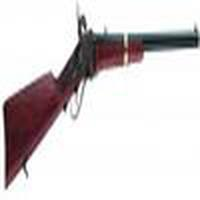gun: (4, 16, 200, 181)
